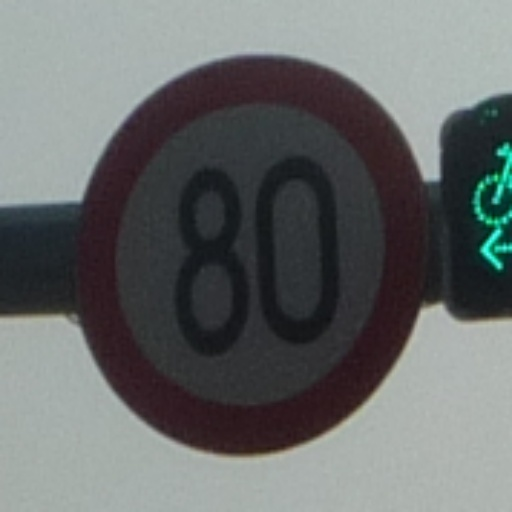Speed limit: (69, 52, 418, 433)
